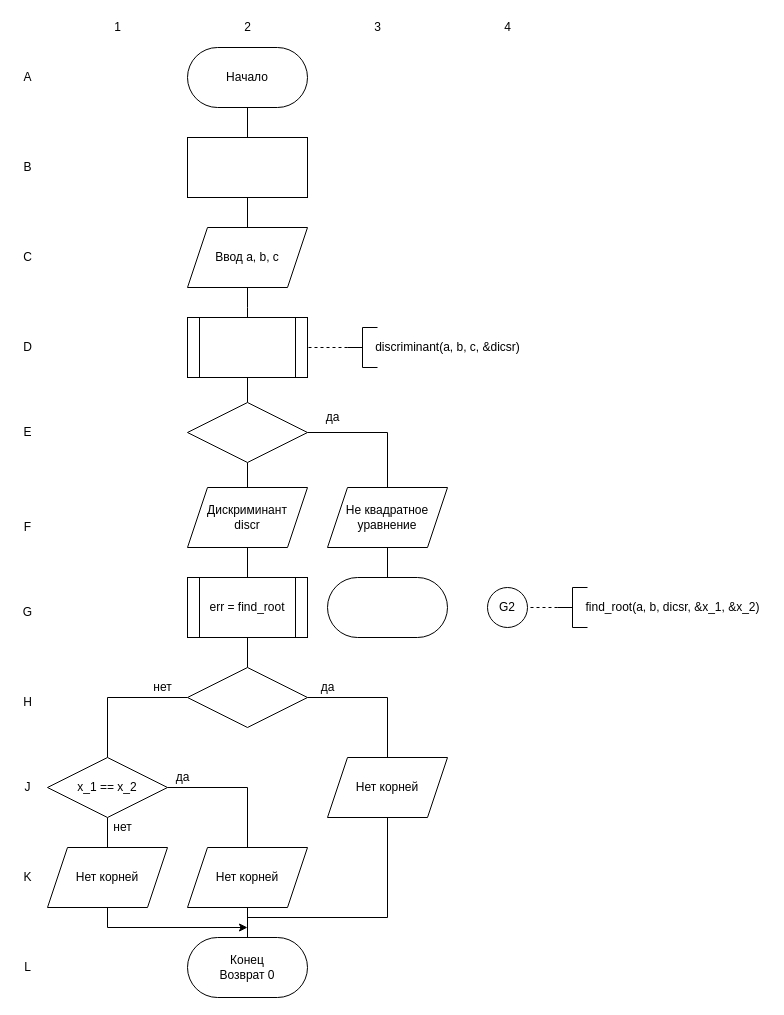
This 784x1015 diagram has some shape labels left out. Each missing label, with the centre of its shape:
err != 0: the point at 247,432
err < 0: the point at 247,697
err = -1 a, b, c, discr, x_1, x_2: the point at 247,167
err = discriminant: the point at 247,347
Конец Возврат 1: the point at 387,607
